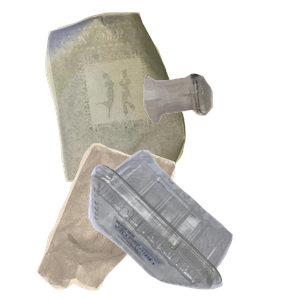glass: (141, 71, 300, 187)
paper: (43, 10, 221, 185)
plastic: (86, 147, 300, 300)
trash: (35, 140, 203, 300)
